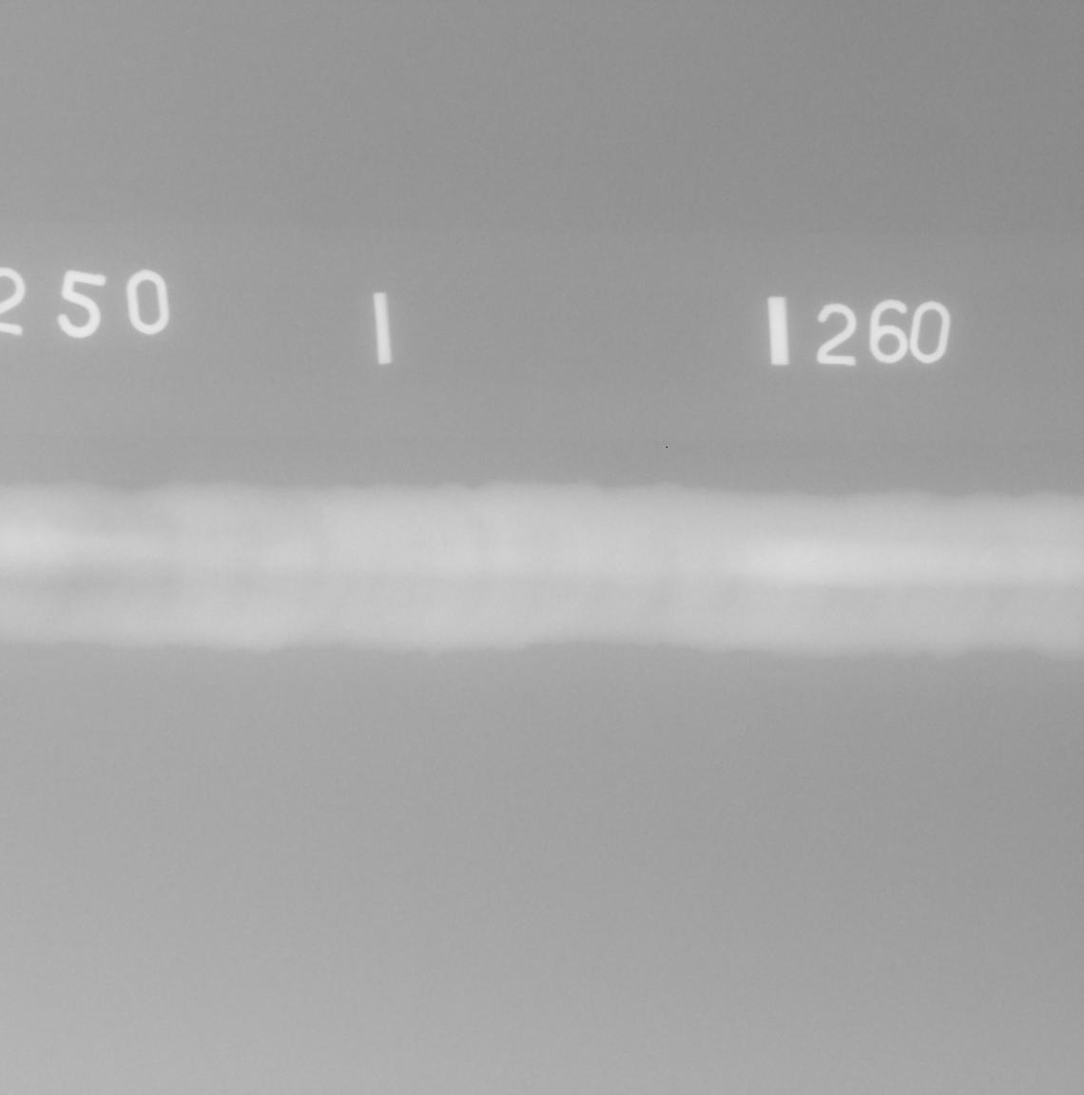Inclusion: (608, 548, 621, 556), (478, 521, 487, 528)
